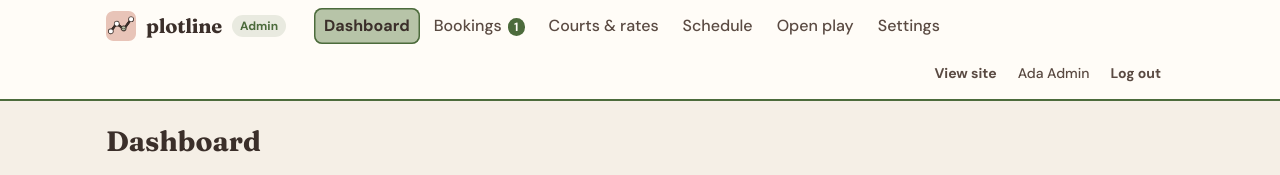
Test case: AdminLayout new-booking badge › clears the count when the admin opens Bookings
Click the link with aria-label "Bookings, 1 new" at (479, 26), box [434, 15, 524, 36]
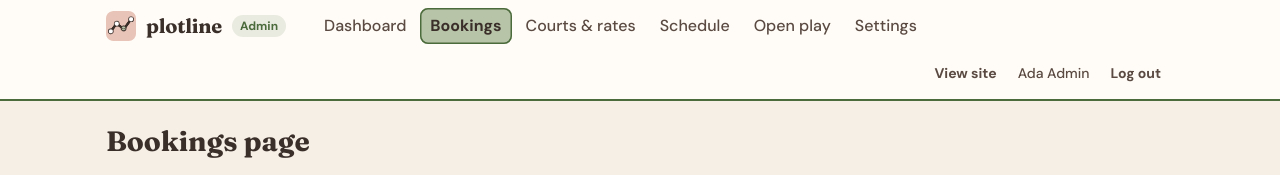
Expected: the link "Bookings" is shown, [420, 8, 512, 44]
Expected: the heading "Bookings page" is shown, [106, 124, 310, 158]
